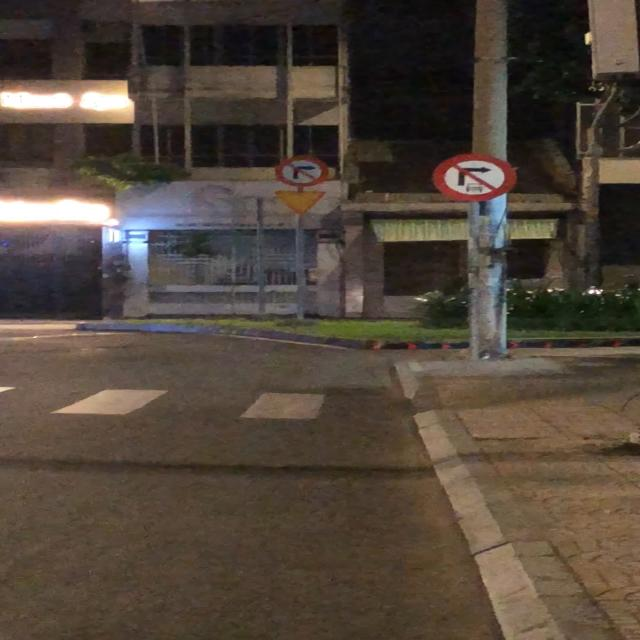Bien bao cam re phai: (271, 155, 331, 186)
Bien bao cam xe o to re phai: (430, 152, 519, 203)
Bien bao giao nhau voi duong uu tien: (273, 188, 330, 215)
